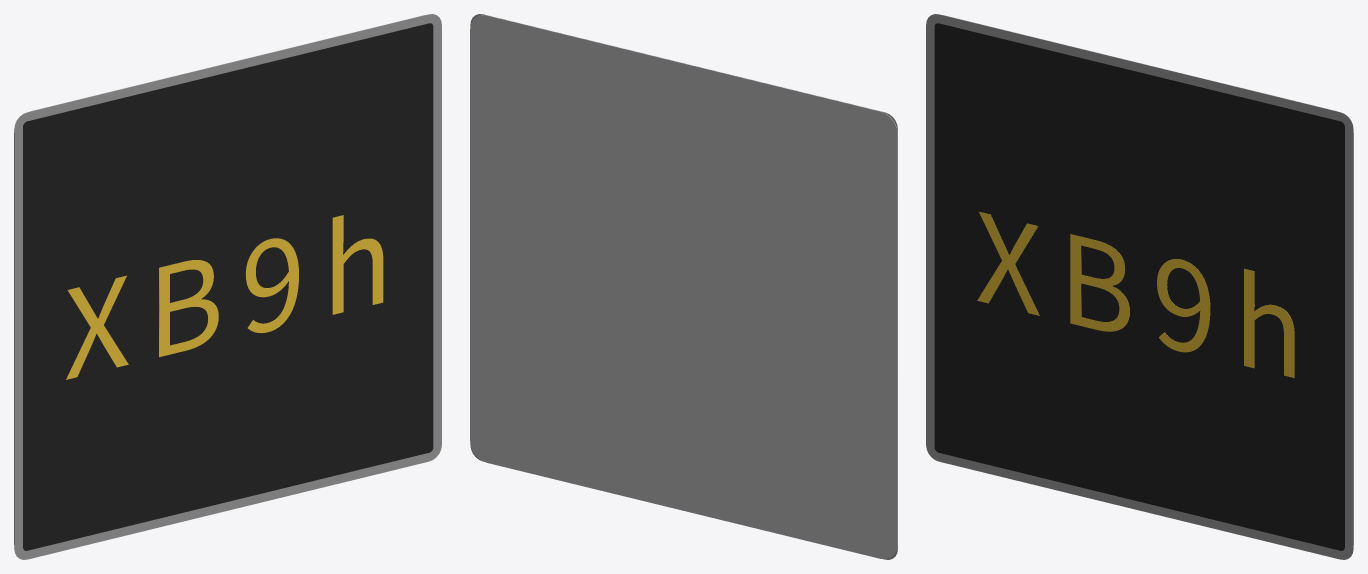
3 views of the same model, side by side, from view 1: azimuth 30°, elevation 25°; view 2: azimuth 150°, elevation 25°; view 3: azimuth 330°, elevation 25° (orthographic).
Visible parts, largest first — view 1: XB9h_fond01, XB9h_cadre00, XB9h_txt02, XB9h_dos; view 2: XB9h_dos, XB9h_cadre00; view 3: XB9h_fond01, XB9h_cadre00, XB9h_txt02, XB9h_dos.
Boxes of the visible parts, box(x1,y1,x2,y2) form: XB9h_fond01: box(23, 23, 433, 550); XB9h_cadre00: box(14, 14, 441, 559); XB9h_txt02: box(66, 215, 383, 379); XB9h_dos: box(14, 15, 424, 544); XB9h_dos: box(470, 15, 897, 559); XB9h_cadre00: box(470, 14, 897, 559); XB9h_fond01: box(934, 23, 1344, 550); XB9h_cadre00: box(926, 14, 1353, 559); XB9h_txt02: box(977, 211, 1294, 377); XB9h_dos: box(943, 15, 1353, 544).
Size of the model in its own units: 1 by 1 by 0.0025.
